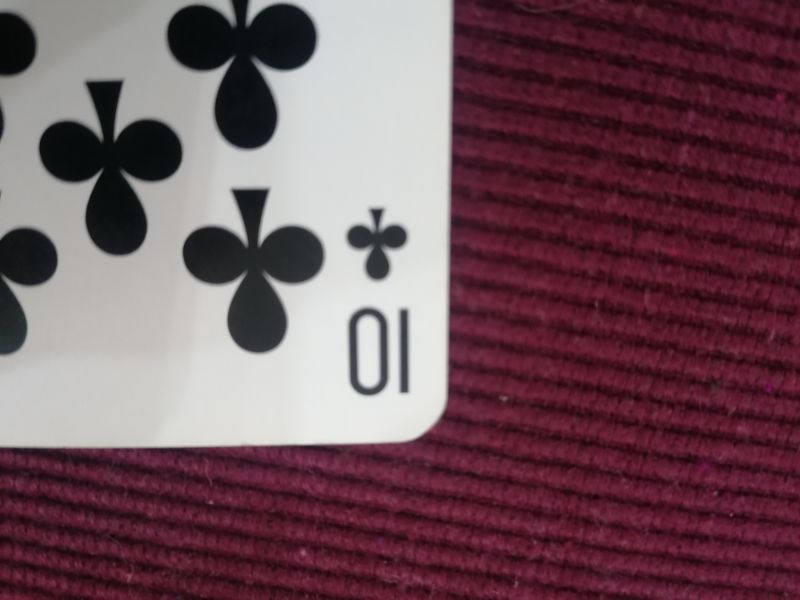Tc: (336, 197, 415, 401)
